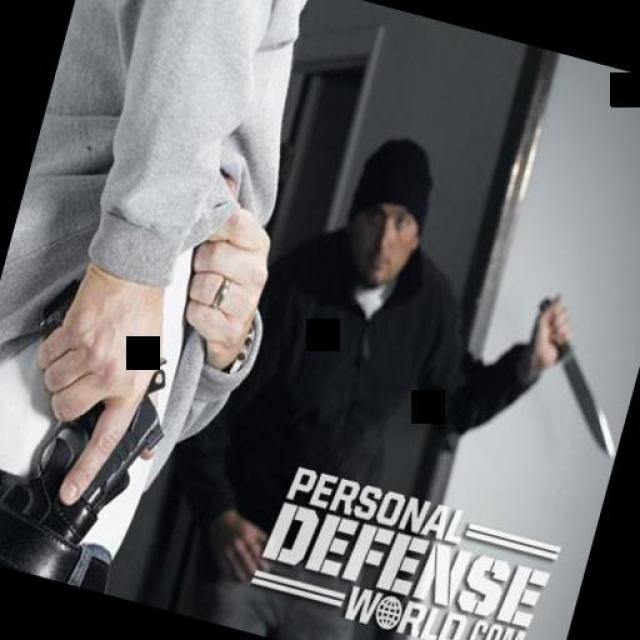gun: (0, 259, 190, 590)
